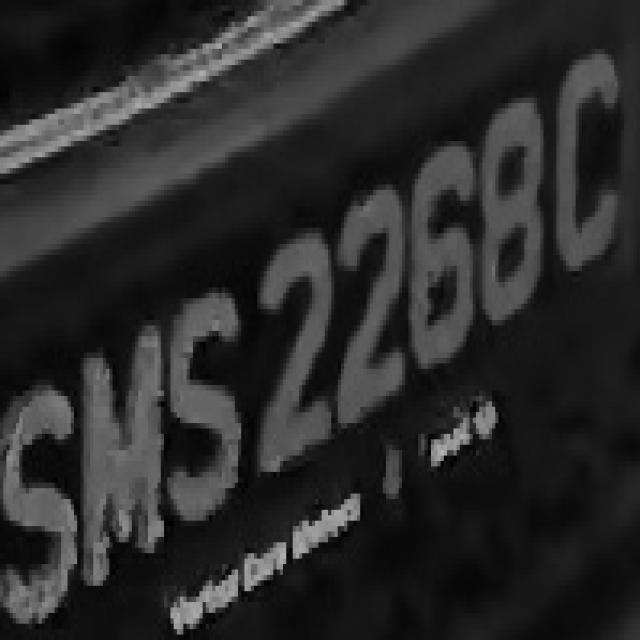2: (251, 227, 341, 493), (325, 179, 408, 428)
6: (399, 146, 479, 380)
8: (472, 92, 546, 331)
C: (550, 44, 617, 272)
M: (71, 331, 161, 569)
S: (164, 276, 248, 532), (3, 369, 77, 640)
